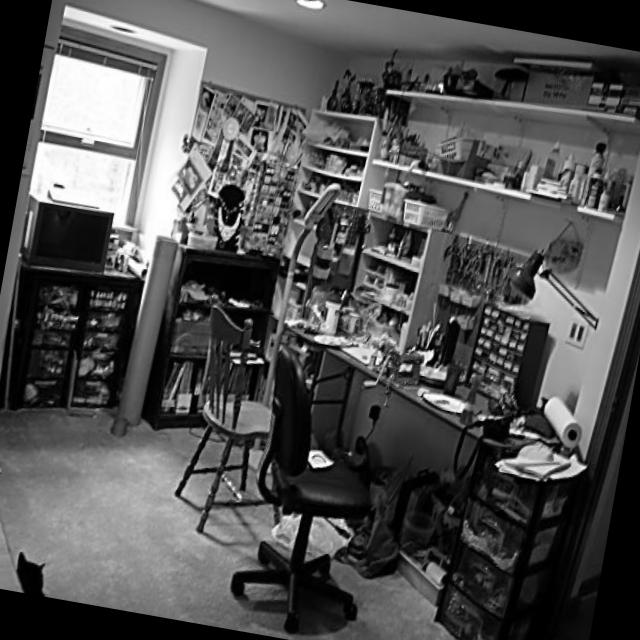2001: (20, 33, 156, 250)
box contants: (464, 299, 547, 408)
ceiling beam: (194, 0, 640, 57)
chair -occluded-: (174, 303, 280, 530)
drawers crop: (432, 422, 583, 640)
floor -X: (0, 405, 540, 640)
furniture crop: (134, 240, 280, 429), (0, 244, 138, 407)
lamp crop: (251, 183, 338, 452), (509, 246, 597, 329)
roll of toilet paper: (116, 232, 178, 424), (543, 395, 579, 448)
shelf crop: (372, 159, 624, 223), (384, 90, 640, 135)
shelves crop: (249, 108, 404, 457), (340, 210, 452, 357)
swivel chair crop: (227, 348, 372, 631)
table -X: (286, 321, 562, 456)
wall clock: (261, 51, 640, 638), (542, 248, 640, 636)
